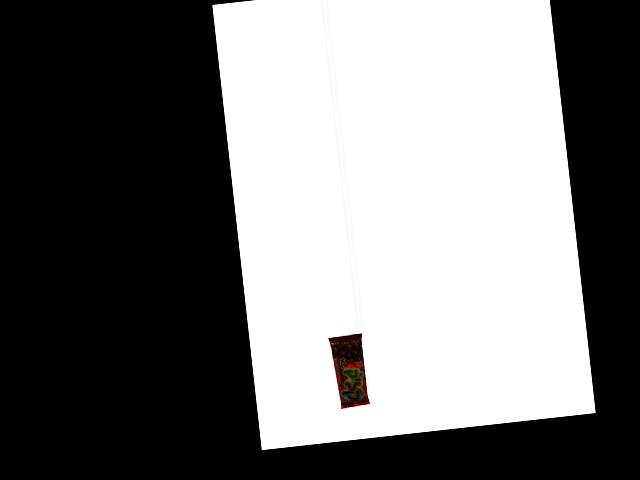chocolate: (329, 333, 370, 409)
